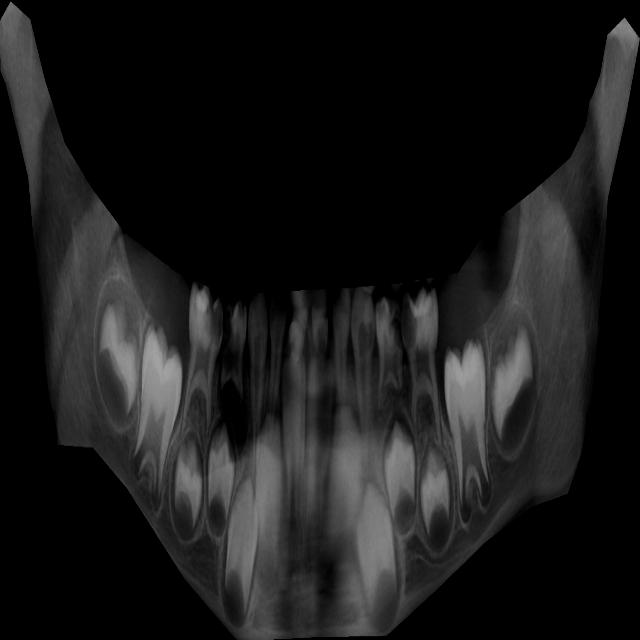mandibula: (0, 1, 640, 640)
